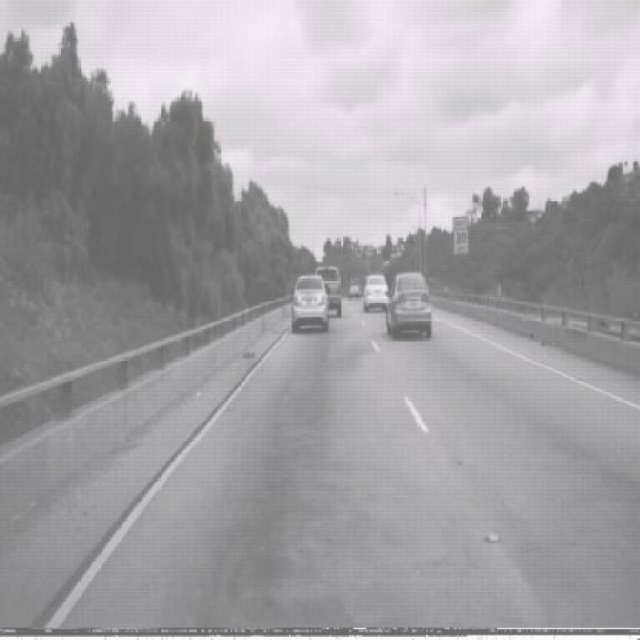rampSpeedAdvisory20: (452, 214, 470, 257)
